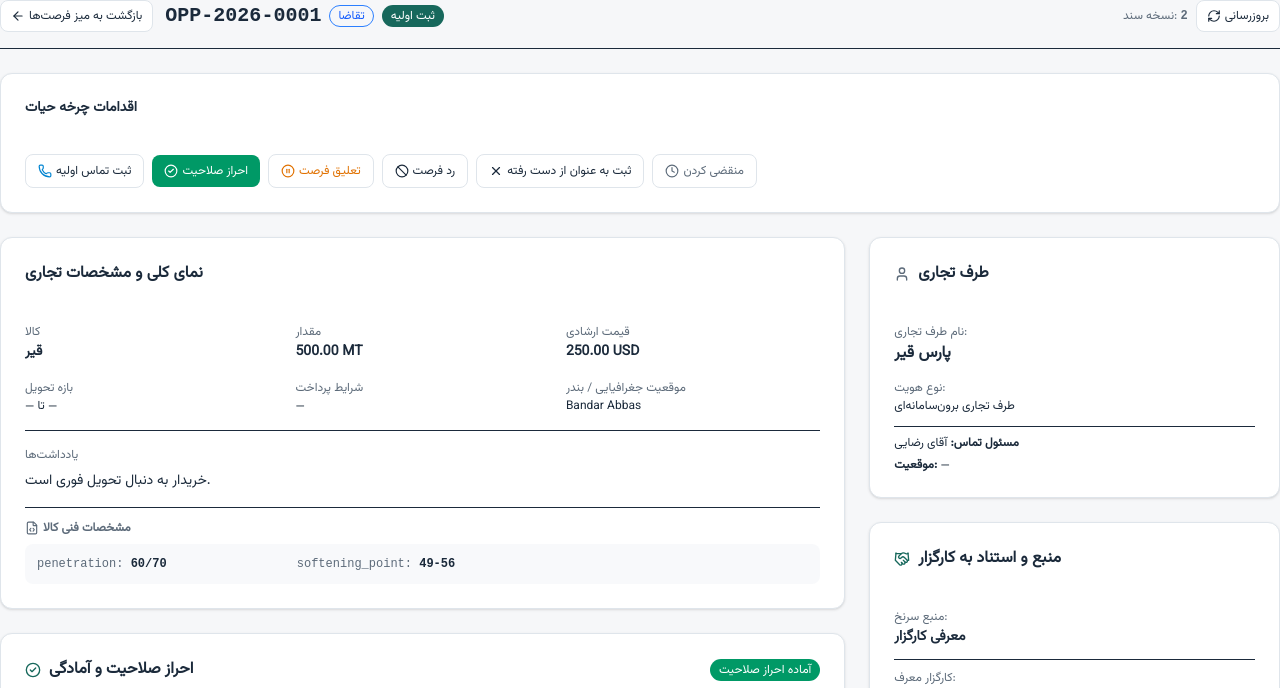
T0612 — Opportunity Desk UI › Opportunity Detail Workspace (OpportunityDetailClient) › handles 409 conflict: displays warning, does not retry, refetches current opportunity
Click the button "ثبت تماس اولیه" at coordinates (85, 171), box x1=25 y1=154 x2=144 y2=188
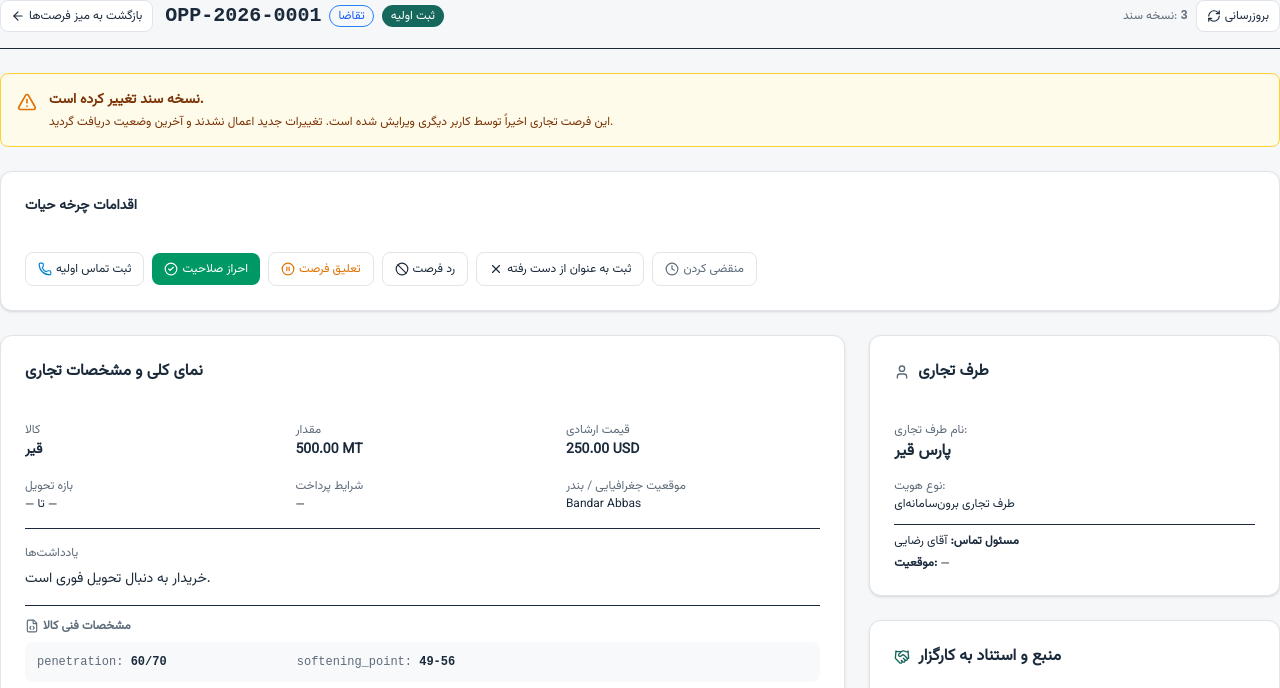
Expected: the heading "نسخه سند تغییر کرده است." is shown, x1=49 y1=89 x2=204 y2=111
Expected: the text "این فرصت تجاری اخیراً توسط کاربر دیگری ویرایش شده است. تغییرات جدید اعمال نشدند و آخرین وضعیت دریافت گردید." is shown, x1=49 y1=113 x2=613 y2=131
